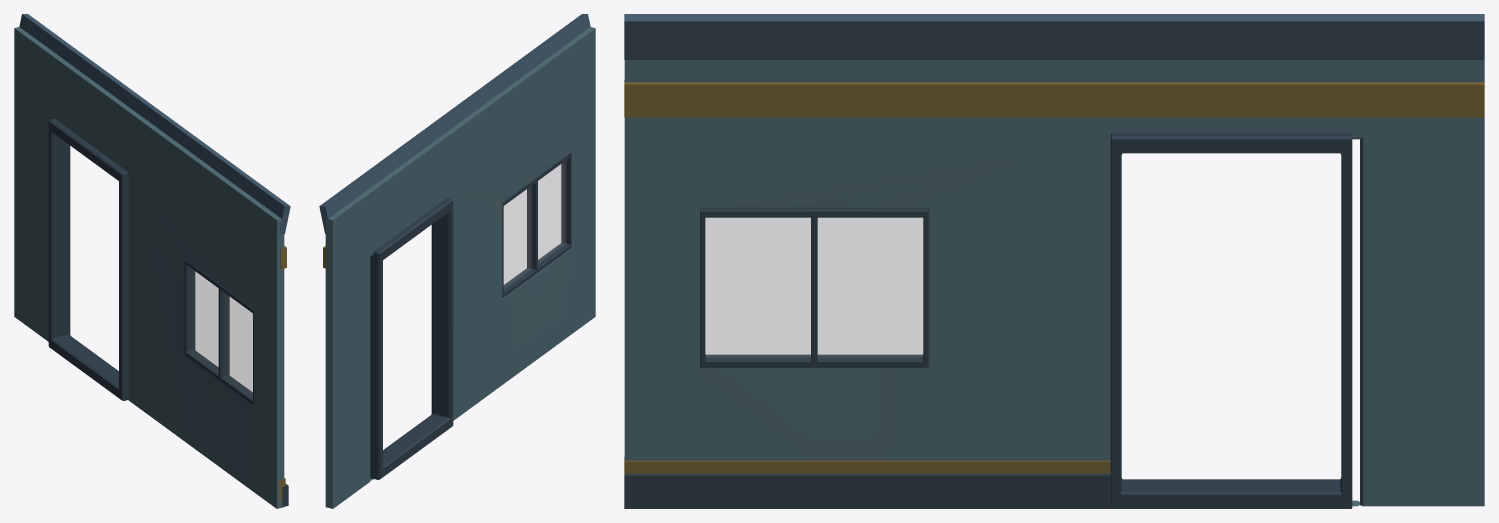
File: SM_SubwayLeftWall.fbx
3 renders of one model, left to right at view 1: azimuth 30°, elevation 25°; view 2: azimuth 150°, elevation 25°; view 3: azimuth 270°, elevation 25°, orthographic. The views are drawn at different scales.
Parts seen in each view (by area): view 1: pCube505; view 2: pCube505; view 3: pCube505.
Boxes of the visible parts, x1=… form: pCube505: x1=14, y1=14, x2=290, y2=508; pCube505: x1=319, y1=14, x2=595, y2=508; pCube505: x1=624, y1=14, x2=1484, y2=508.
Size of the model in its own units: 74.86 by 1070 by 1694.
